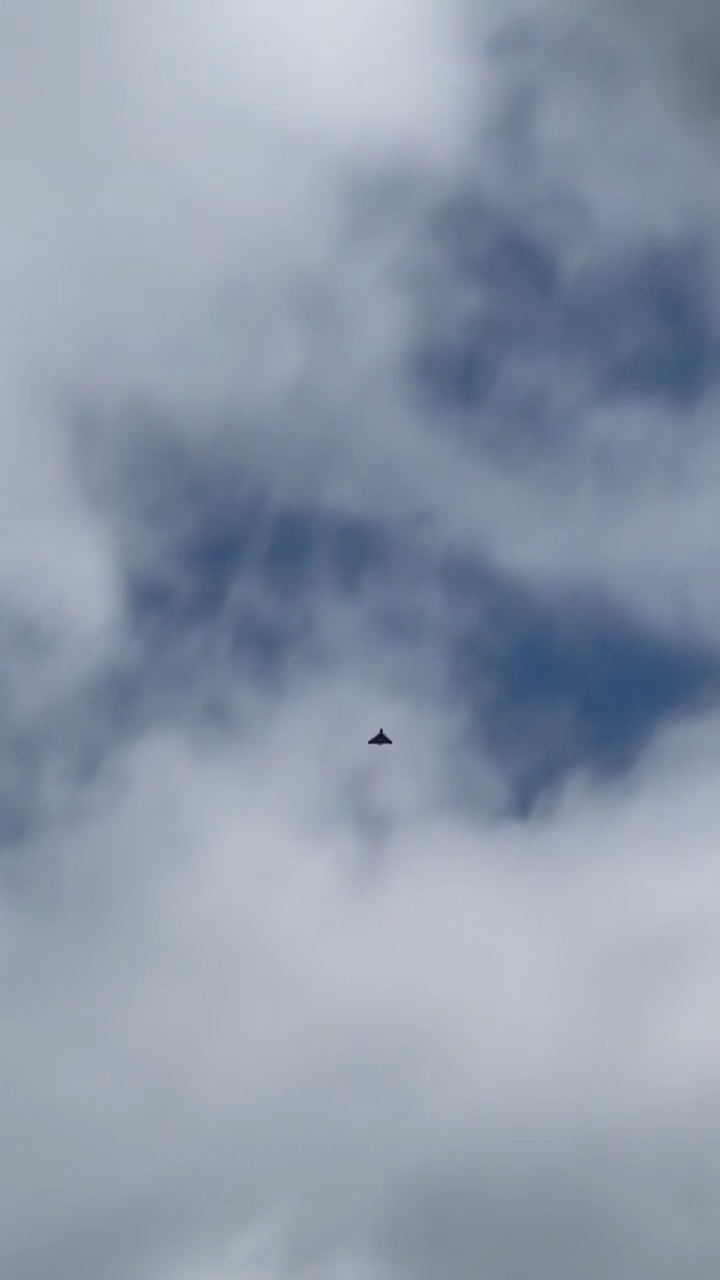shahed: (367, 726, 394, 747)
